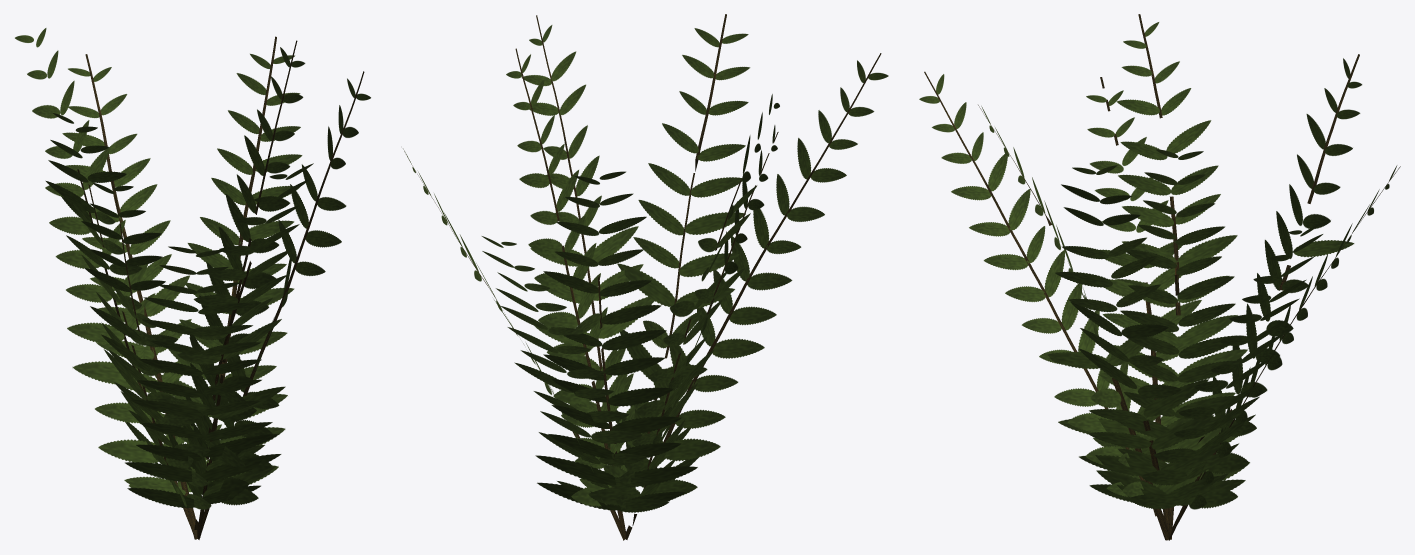
Rendered from royal_fern_v01_LOD1.glb.
3 views of the same model, side by side, from view 1: azimuth 30°, elevation 25°; view 2: azimuth 150°, elevation 25°; view 3: azimuth 270°, elevation 25° (orthographic). The views are drawn at different scales.
Parts seen in each view (by area): view 1: royal_fern_v01_LOD1; view 2: royal_fern_v01_LOD1; view 3: royal_fern_v01_LOD1.
Boxes of the visible parts, x1=… form: royal_fern_v01_LOD1: x1=15, y1=28, x2=370, y2=539; royal_fern_v01_LOD1: x1=403, y1=14, x2=888, y2=540; royal_fern_v01_LOD1: x1=919, y1=14, x2=1400, y2=540.
Bounding box in the file's own units: 0.7218 × 1.06 × 1.01.
Materials: 2 (2 with a texture image).
